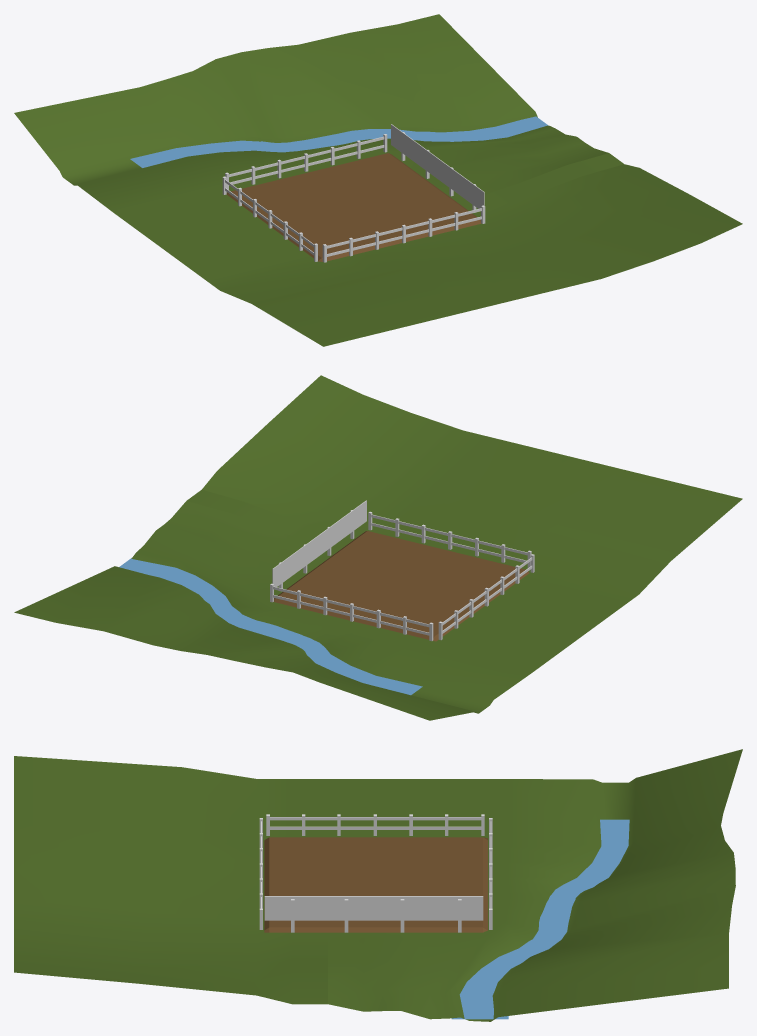
Rendered from field.fbx.
3 renders of one model, top to bottom at view 1: azimuth 30°, elevation 25°; view 2: azimuth 150°, elevation 25°; view 3: azimuth 270°, elevation 25°, orthographic. The views are drawn at different scales.
Parts seen in each view (by area): view 1: Plane, Cube, Plane.001, Cube.004, Cube.003; view 2: Plane, Cube, Plane.001, Cube.004, Cube.003; view 3: Plane, Cube, Plane.001, Cube.003, Cube.004.
Boxes of the visible parts, x1,y1,x2,y2 form: Plane: (14,14,742,346); Cube: (226,153,481,261); Plane.001: (130,116,548,167); Cube.004: (222,134,485,262); Cube.003: (391,124,484,212); Plane: (14,375,742,720); Cube: (274,531,529,641); Plane.001: (119,558,422,695); Cube.004: (270,511,534,641); Cube.003: (272,500,366,591); Plane: (14,749,742,1021); Cube: (264,837,487,932); Plane.001: (451,819,629,1019); Cube.003: (264,896,483,932); Cube.004: (259,814,492,929).
Size of the model in its own units: 3195 by 318 by 4086.
